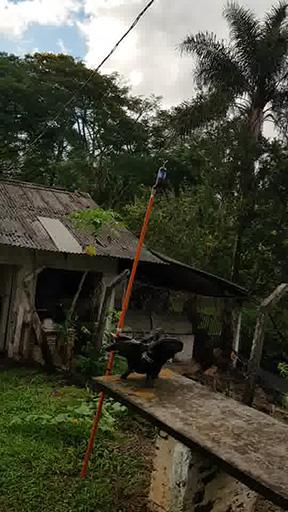Detector_Tensao_Contato: (155, 158, 169, 186)
Vara_Manobra: (78, 188, 156, 478)
